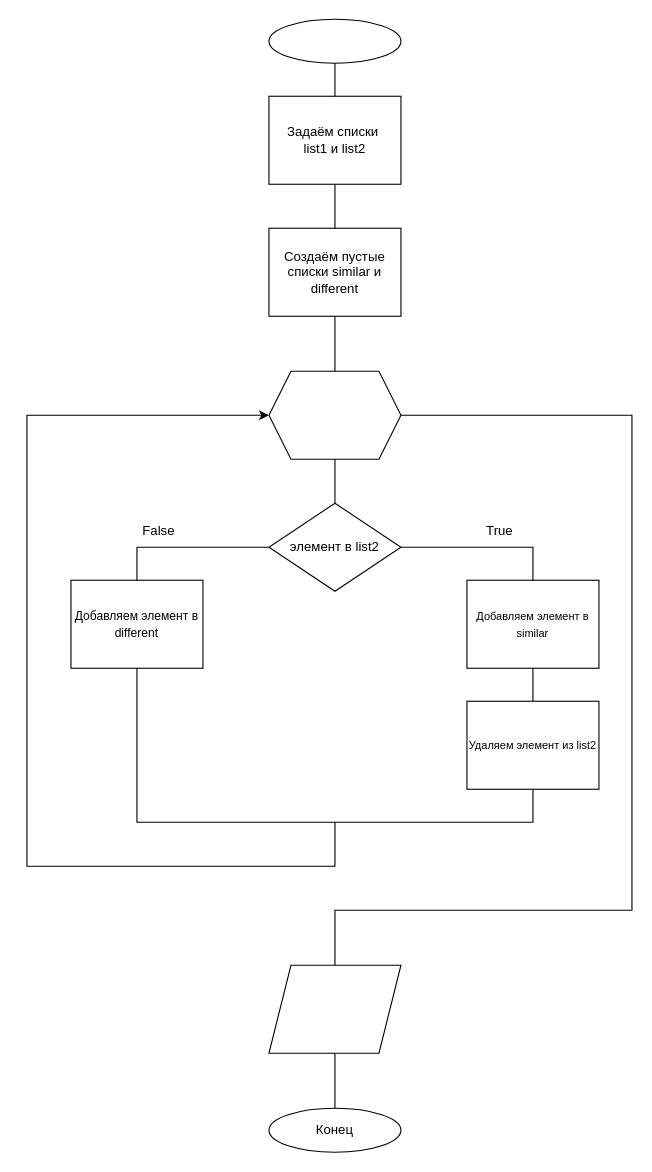
This 652x1172 diagram has some shape labels left out. The centre of each missing label's shape, as x and y in pixels:
"Вывод similar и different и list2" belongs at point (334, 1008).
"Начало" belongs at point (334, 40).
"Проходим по элементам list1" belongs at point (334, 414).
